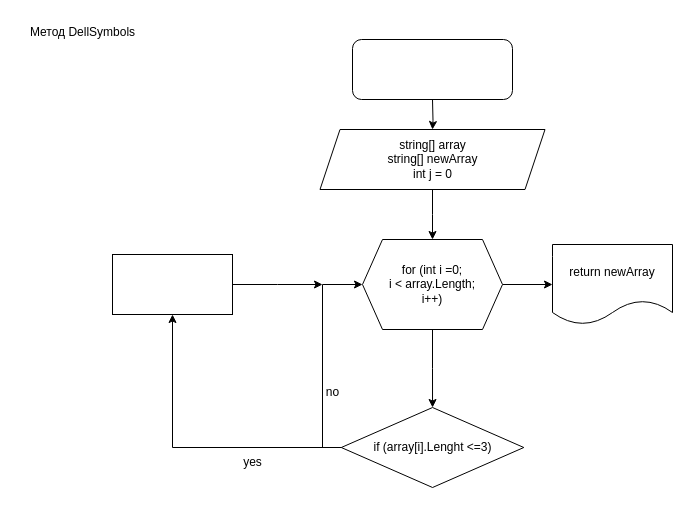
This 690x505 diagram has some shape labels left out. Each missing label, with the centre of its shape:
DellSymbols: point 432,69
newArray[j] = array[i] j++;: point 172,284
